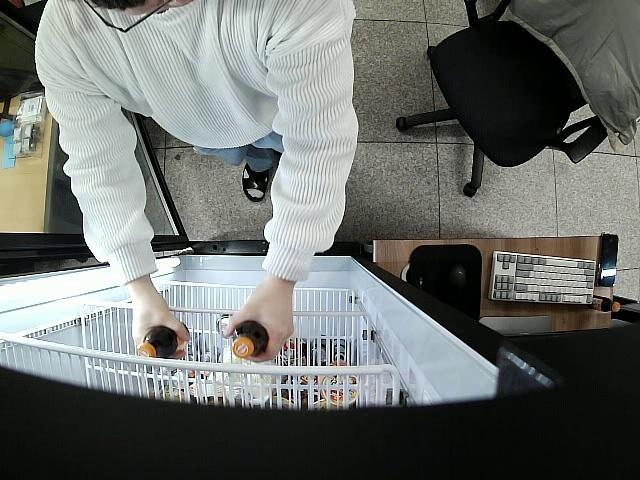17_vita500: (137, 322, 190, 360), (230, 322, 267, 360)
